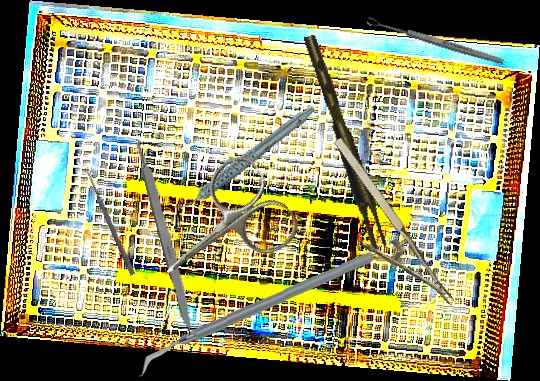Chopper: (136, 249, 376, 378)
Handpiece: (157, 104, 331, 213)
Iris Scissors: (135, 148, 306, 313)
Needle Holder: (306, 134, 456, 329)
Scalpel Handle: (133, 138, 199, 337)
Surgical Spoon: (366, 15, 505, 67), (82, 166, 137, 276)
Tissue Forceps: (303, 31, 389, 253)
